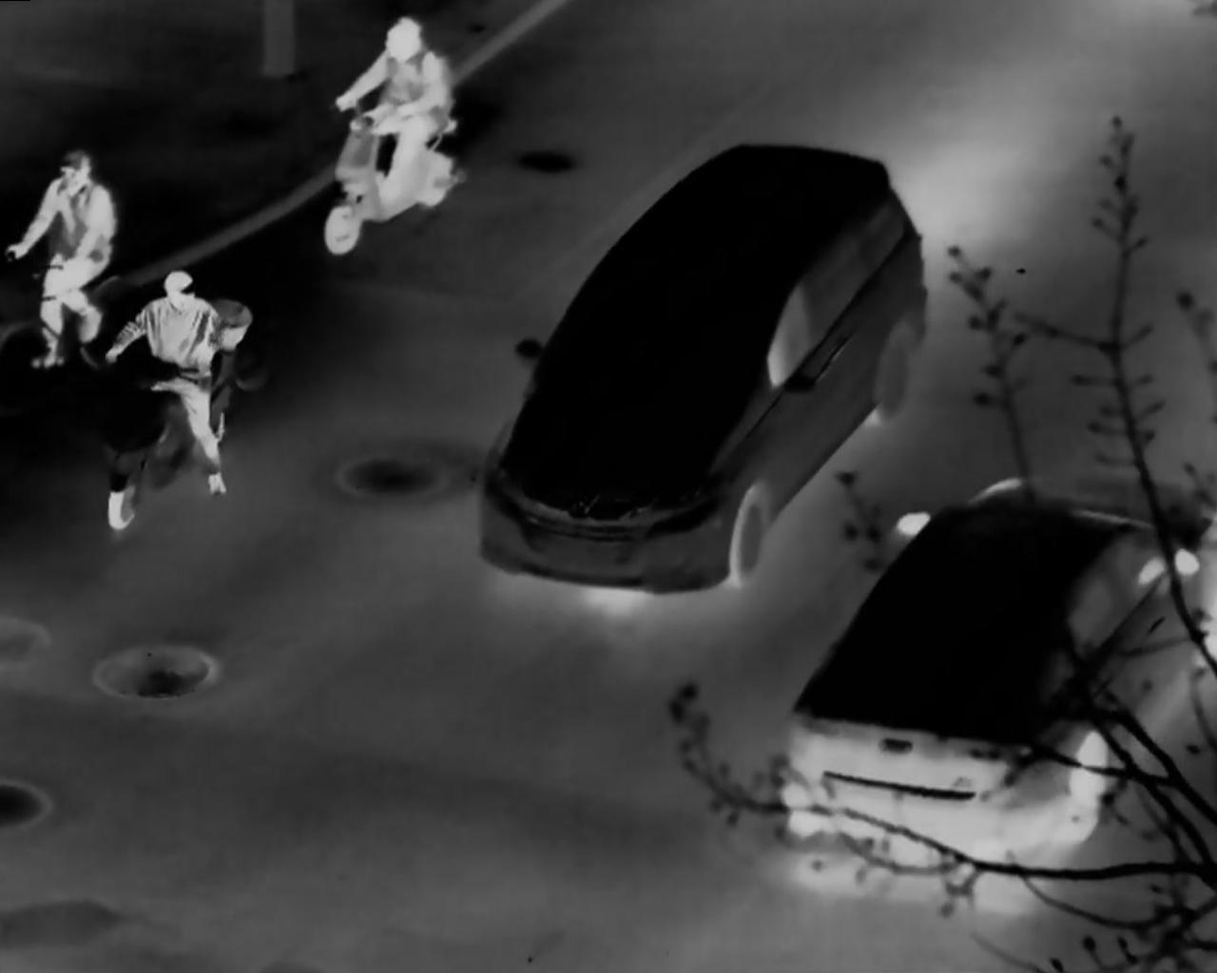person: (323, 19, 439, 223), (124, 271, 220, 471), (13, 151, 109, 341)
